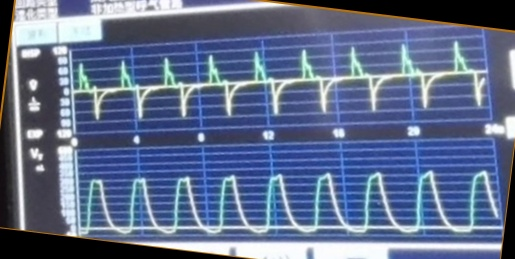Accumulation Flow: (75, 42, 488, 119)
Volume: (81, 169, 501, 235)
